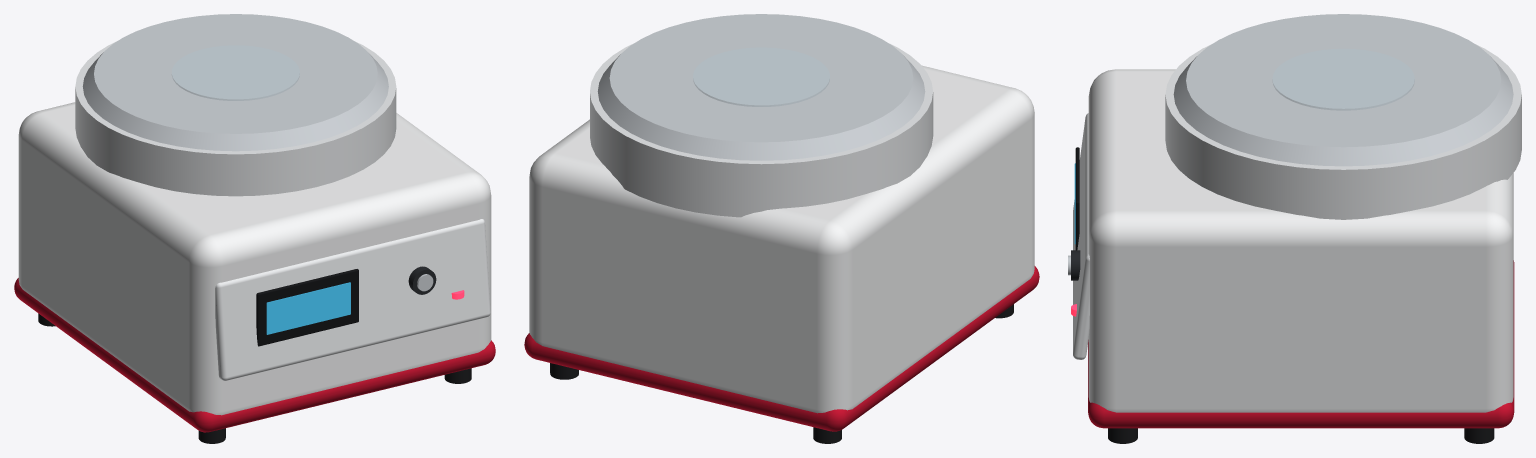
Rendered from nsf-60.glb.
3 renders of one model, left to right at view 1: azimuth 30°, elevation 25°; view 2: azimuth 150°, elevation 25°; view 3: azimuth 270°, elevation 25°, orthographic. The views are drawn at different scales.
Size of the model in its own units: 0.5617 by 0.4705 by 0.662.
